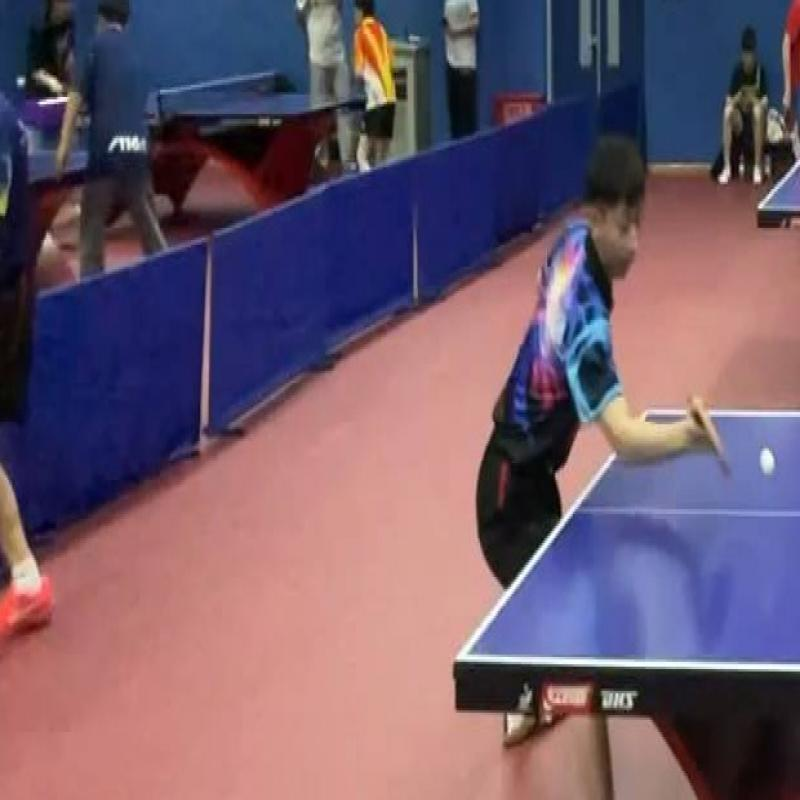bats: (681, 383, 737, 495)
